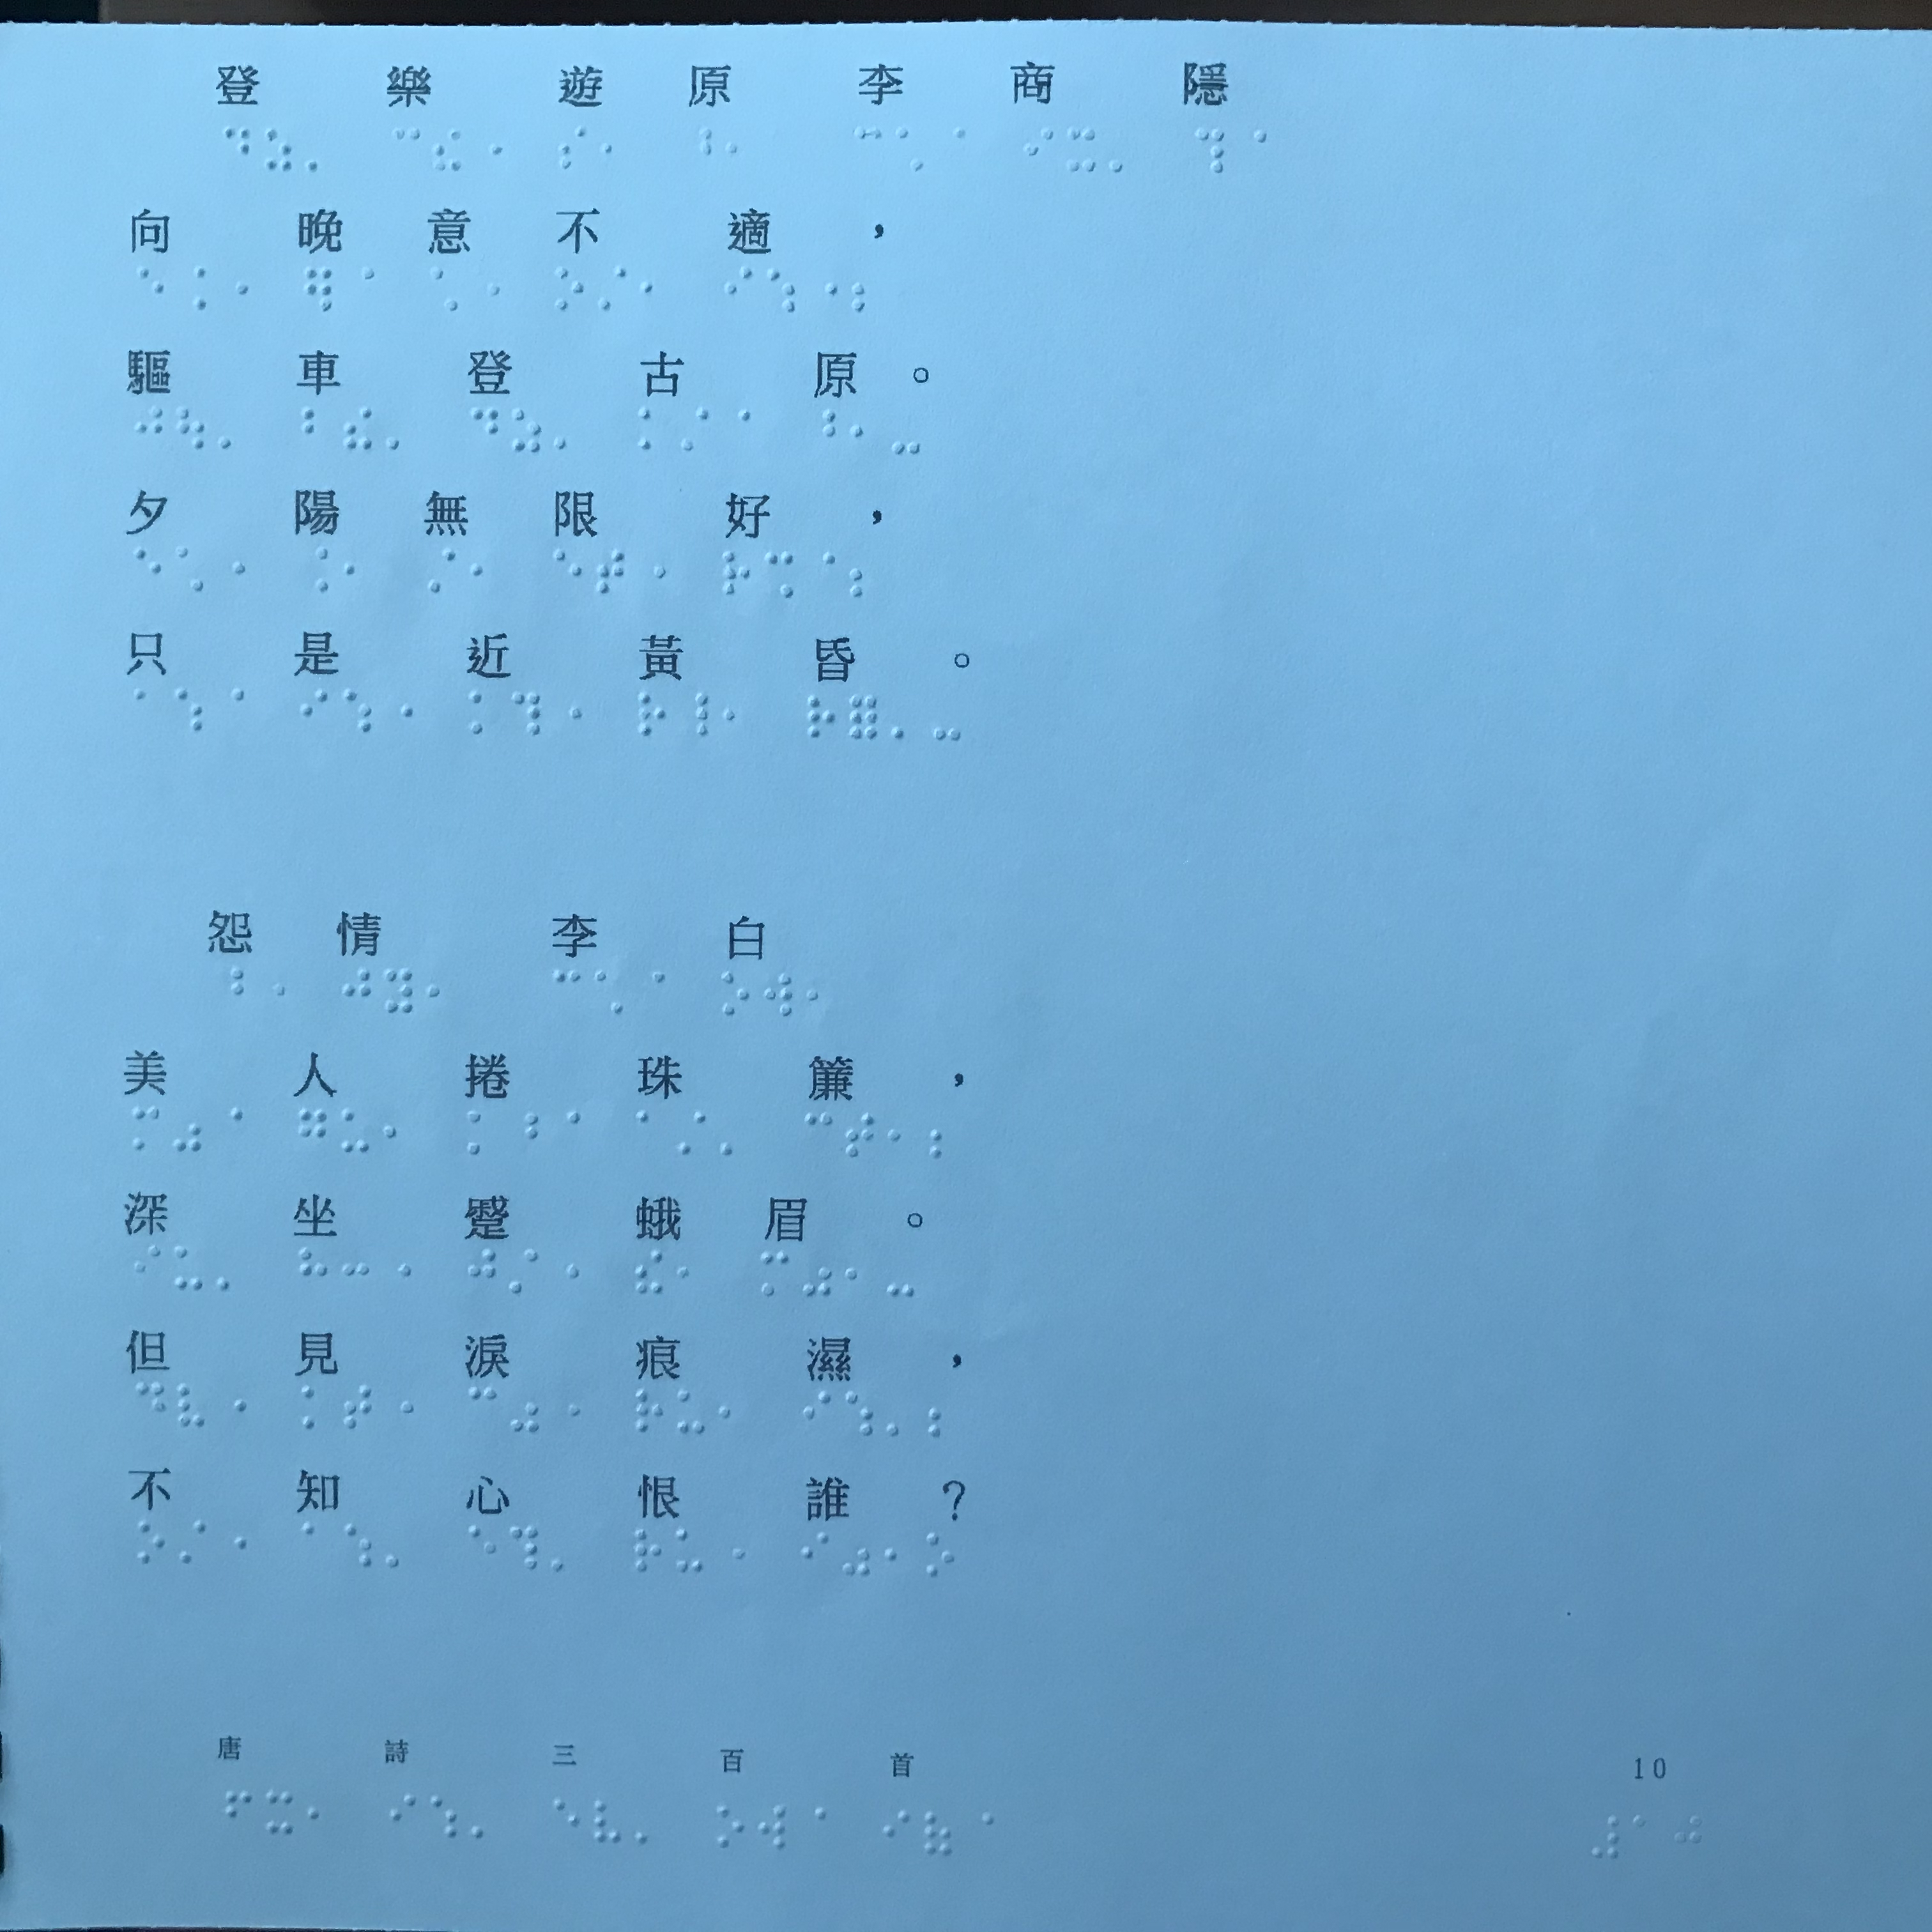Braille: (1065, 119, 1100, 180), (511, 400, 547, 458), (764, 267, 801, 322), (674, 403, 711, 458), (924, 1104, 957, 1164), (1196, 119, 1226, 184), (846, 688, 881, 743), (803, 970, 839, 1024), (893, 120, 925, 180), (1237, 120, 1267, 184), (932, 685, 964, 745), (589, 962, 621, 1023), (472, 122, 506, 179), (173, 400, 207, 456), (759, 1246, 793, 1302), (173, 1242, 205, 1300), (389, 119, 423, 173), (556, 117, 589, 172), (1021, 124, 1054, 179), (593, 543, 626, 598), (892, 686, 925, 741), (718, 968, 752, 1023), (718, 1108, 752, 1162), (844, 1109, 878, 1164), (803, 1111, 839, 1162), (343, 681, 373, 741), (936, 120, 968, 177), (428, 265, 460, 322), (718, 403, 750, 460), (801, 1247, 833, 1304), (216, 1380, 248, 1437), (674, 1385, 706, 1442), (593, 260, 626, 313), (341, 403, 375, 456), (175, 1380, 209, 1433), (506, 1387, 540, 1440), (177, 538, 207, 596), (177, 679, 207, 738), (379, 1102, 409, 1161), (552, 966, 587, 1016), (264, 122, 295, 177), (433, 122, 465, 177), (1106, 127, 1138, 182), (179, 265, 211, 320), (720, 547, 752, 602), (849, 547, 881, 602), (674, 1108, 706, 1162), (635, 1246, 667, 1300), (506, 1108, 540, 1159), (635, 1108, 669, 1159), (295, 1244, 329, 1295), (809, 267, 839, 324), (554, 402, 584, 458), (216, 679, 246, 736), (384, 683, 414, 740), (840, 1246, 870, 1302), (637, 403, 669, 456), (511, 686, 543, 740), (136, 1380, 168, 1433), (635, 1387, 667, 1440), (761, 1801, 793, 1854), (301, 265, 334, 315), (924, 1532, 957, 1582), (133, 1240, 163, 1295), (1672, 1810, 1702, 1865), (223, 120, 255, 172), (722, 688, 754, 740), (172, 1104, 203, 1155), (550, 1385, 582, 1437), (674, 1525, 706, 1576), (964, 1808, 996, 1859), (766, 547, 794, 603), (888, 1246, 916, 1302), (718, 1385, 747, 1442), (847, 1385, 876, 1442), (856, 122, 886, 175), (469, 267, 499, 320), (471, 402, 501, 455), (384, 964, 414, 1017), (764, 970, 794, 1023), (212, 1102, 242, 1155), (340, 1104, 370, 1157), (265, 1783, 295, 1836), (722, 124, 754, 173), (341, 966, 373, 1016), (129, 1104, 161, 1154), (301, 541, 329, 596), (552, 1104, 580, 1159), (886, 1108, 915, 1162), (548, 1522, 577, 1576), (924, 1806, 952, 1861), (598, 120, 628, 172), (685, 124, 715, 175), (893, 410, 924, 462), (639, 690, 669, 741), (635, 966, 665, 1017), (299, 1106, 329, 1157), (508, 1246, 538, 1297), (548, 1247, 579, 1299), (386, 1525, 418, 1573), (840, 1532, 872, 1580), (628, 1801, 660, 1849), (639, 262, 667, 315), (301, 403, 329, 456), (718, 1527, 747, 1580), (883, 1806, 911, 1859), (552, 265, 582, 315), (847, 267, 878, 317), (807, 410, 837, 460), (133, 681, 163, 731), (469, 688, 499, 738), (216, 961, 246, 1010), (467, 1108, 497, 1157), (382, 1246, 412, 1295), (511, 1523, 541, 1573), (552, 1794, 582, 1844), (715, 1801, 745, 1851), (343, 267, 375, 313), (343, 1382, 375, 1428), (803, 1387, 835, 1433), (138, 402, 166, 453), (554, 547, 582, 598), (810, 548, 839, 600), (554, 686, 582, 738), (809, 690, 837, 741), (258, 961, 287, 1012), (931, 1391, 959, 1442), (803, 1803, 832, 1854), (216, 398, 241, 456), (304, 127, 334, 175), (340, 1246, 370, 1293), (301, 1385, 331, 1433), (428, 1794, 458, 1842), (430, 1796, 460, 1844), (140, 262, 166, 315), (301, 685, 327, 738), (219, 540, 244, 596), (428, 545, 456, 594), (593, 1796, 621, 1845), (1631, 1810, 1660, 1859), (469, 1385, 499, 1431), (179, 1522, 209, 1568), (801, 1529, 832, 1575), (1592, 1813, 1622, 1859), (386, 405, 412, 456), (851, 409, 878, 460), (885, 1391, 911, 1442), (729, 265, 754, 320), (425, 966, 453, 1014), (216, 1244, 244, 1292), (343, 1522, 372, 1569), (216, 1525, 246, 1569), (136, 543, 163, 593), (467, 545, 494, 594), (642, 543, 667, 596), (681, 690, 708, 740), (386, 1385, 414, 1431), (226, 1785, 255, 1831), (387, 1792, 416, 1838), (225, 265, 249, 317), (674, 1249, 699, 1300), (471, 1522, 495, 1573), (469, 1249, 495, 1297), (881, 1529, 908, 1576), (341, 547, 366, 596), (140, 1520, 166, 1566), (469, 1798, 494, 1845), (304, 1518, 327, 1568), (635, 1527, 660, 1573), (304, 1792, 329, 1836)
